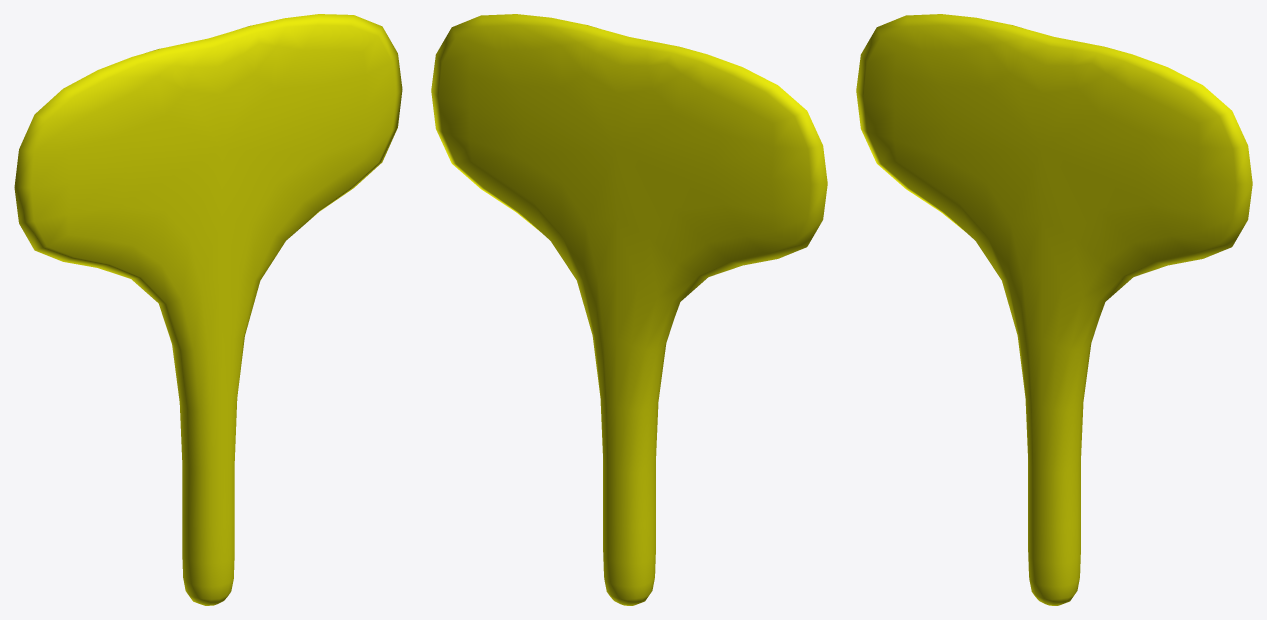
Rendered from Sign.fbx.
The picture shows the model from 3 angles, left to right: view 1: azimuth 30°, elevation 25°; view 2: azimuth 150°, elevation 25°; view 3: azimuth 330°, elevation 25°; orthographic projection.
Parts seen in each view (by area): view 1: Sign; view 2: Sign; view 3: Sign.
Part boxes in pixels (x1,y1,x2,y2): Sign: (14, 14, 402, 605); Sign: (431, 14, 827, 605); Sign: (856, 14, 1252, 605).
Bounding box in the file's own units: 1.26 × 1.74 × 0.1463.
